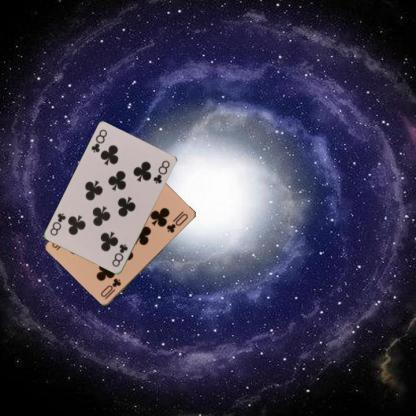10c: (98, 276, 122, 301)
8c: (109, 242, 130, 269), (88, 127, 108, 154)
